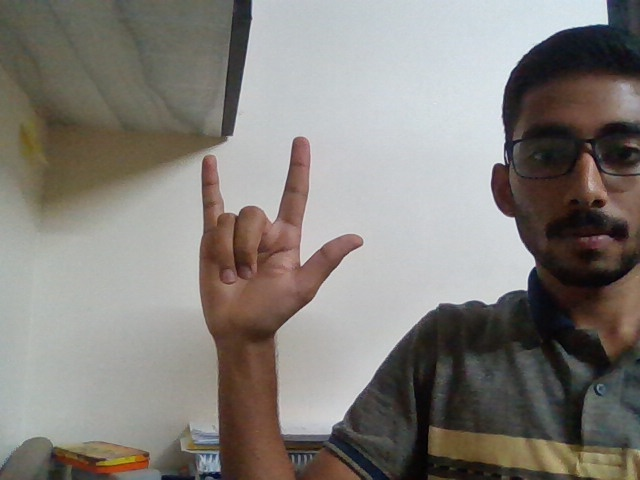Enjoy: (185, 123, 382, 367)
